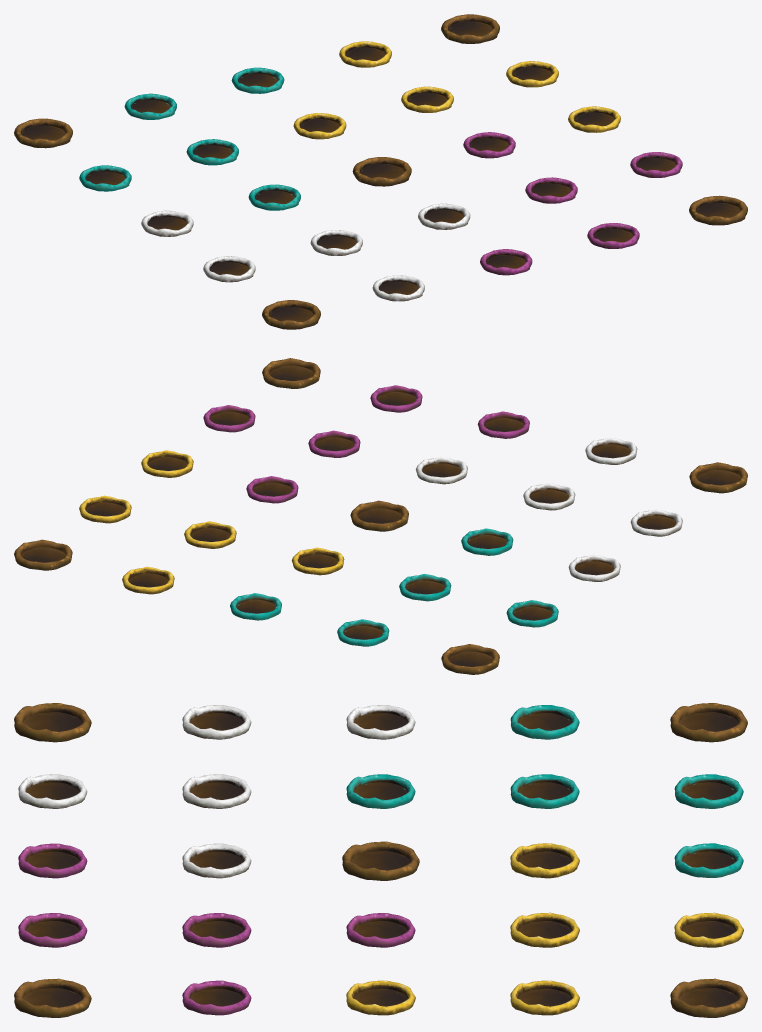
The model's file is MemoRoute_Hole.fbx.
3 views of the same model, one above another, from view 1: azimuth 30°, elevation 25°; view 2: azimuth 150°, elevation 25°; view 3: azimuth 270°, elevation 25° (orthographic). The views are drawn at different scales.
Parts seen in each view (by area): view 1: MemoRoute_Hole; view 2: MemoRoute_Hole; view 3: MemoRoute_Hole.
Part boxes in pixels (x1,y1,x2,y2): MemoRoute_Hole: (14,14,747,329); MemoRoute_Hole: (14,358,747,674); MemoRoute_Hole: (14,703,747,1017).
Bounding box in the file's own units: 52.05 × 0.8858 × 52.34.
